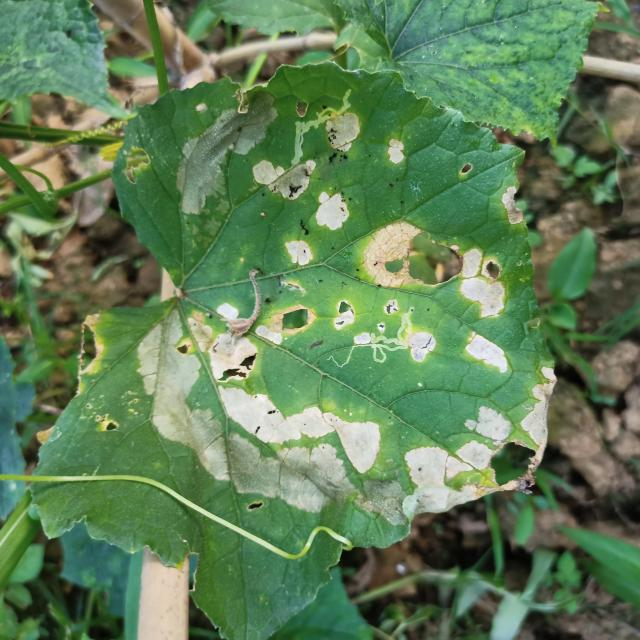disease_cucumber: (244, 104, 530, 320), (137, 303, 395, 527), (397, 310, 557, 519)
